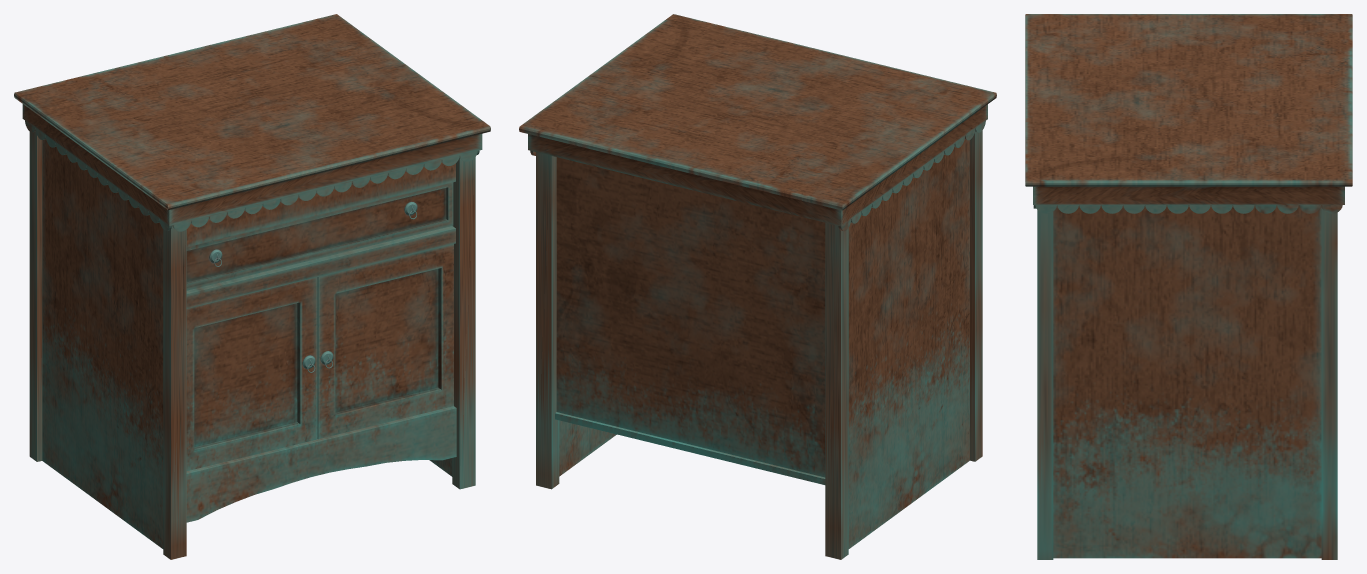
The model's file is furniture.glb.
3 views of the same model, side by side, from view 1: azimuth 30°, elevation 25°; view 2: azimuth 150°, elevation 25°; view 3: azimuth 270°, elevation 25° (orthographic). The views are drawn at different scales.
Visible parts, largest first — view 1: Object_3; view 2: Object_3; view 3: Object_3.
Boxes of the visible parts, <box> form: Object_3: <box>14,14,490,559</box>; Object_3: <box>519,14,996,559</box>; Object_3: <box>1025,14,1352,559</box>.
Bounding box in the file's own units: 54.09 × 57.76 × 44.68.
1 material, 1 textured.
